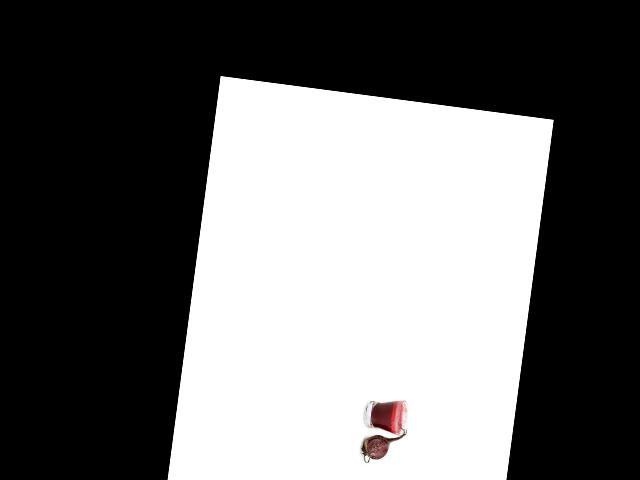beet: (359, 418, 407, 467)
